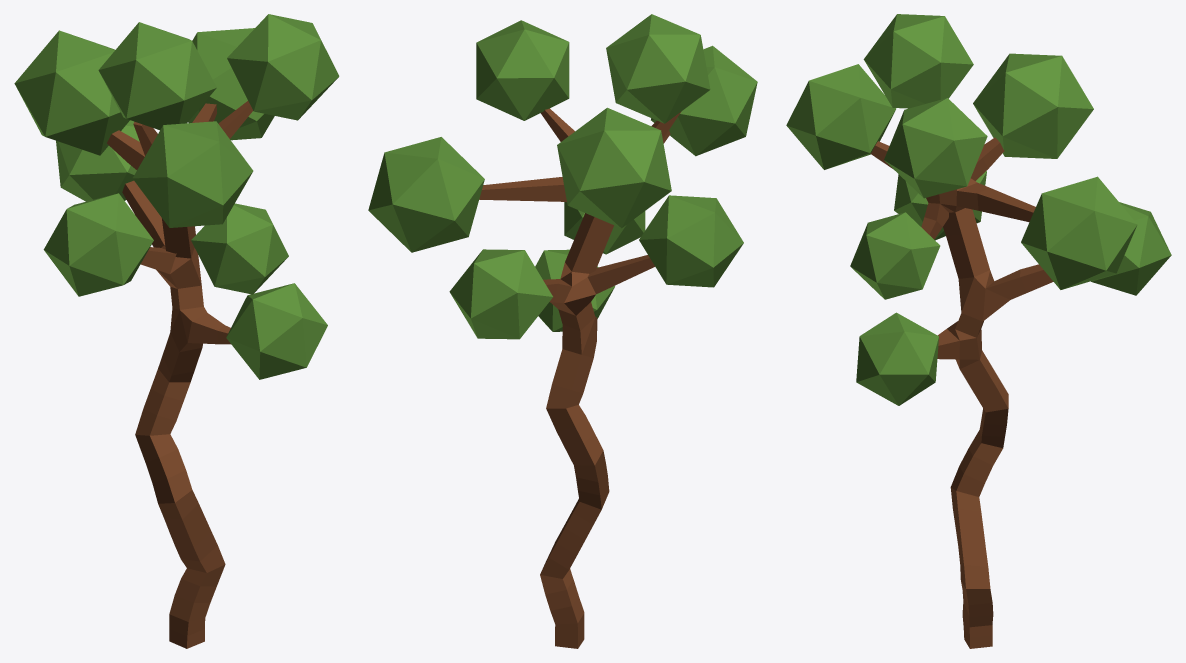
File: large tree.fbx
3 renders of one model, left to right at view 1: azimuth 30°, elevation 25°; view 2: azimuth 150°, elevation 25°; view 3: azimuth 270°, elevation 25°, orthographic. The views are drawn at different scales.
Visible parts, largest first — view 1: tree 4; view 2: tree 4; view 3: tree 4.
Boxes of the visible parts, bbox=[...] form: tree 4: bbox=[14, 14, 339, 648]; tree 4: bbox=[368, 14, 757, 648]; tree 4: bbox=[786, 14, 1171, 648].
Size of the model in its own units: 6.76 by 14.15 by 8.28.
